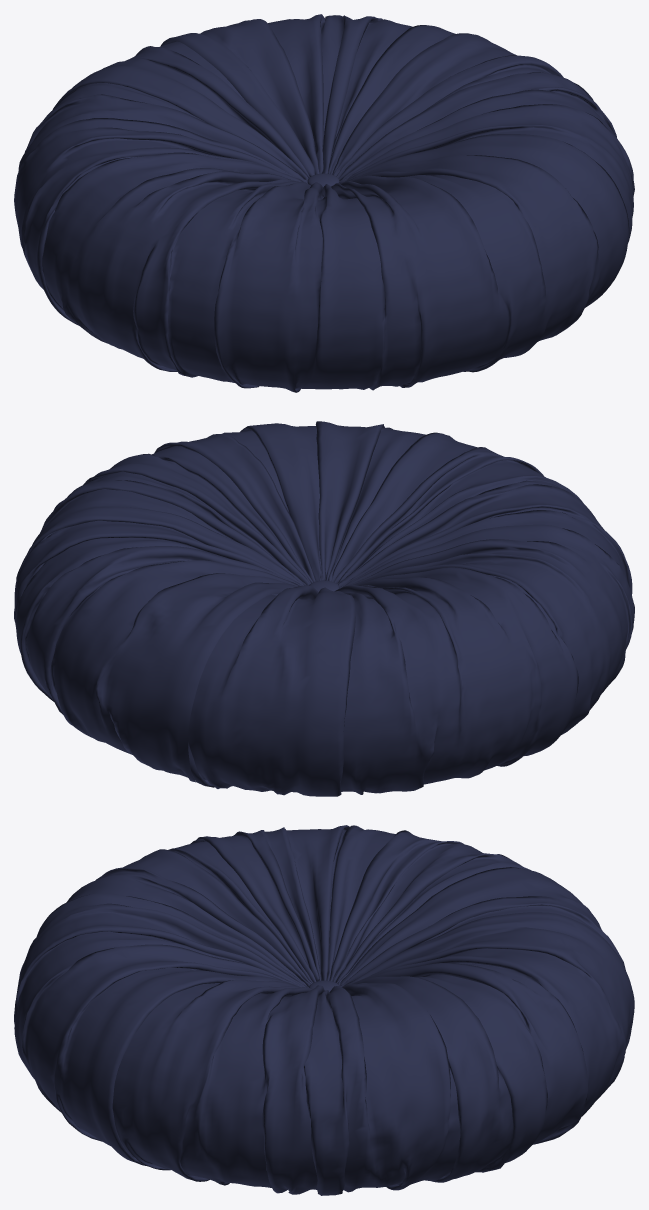
File: wf_specular_silk_pouf.glb
3 views of the same model, one above another, from view 1: azimuth 30°, elevation 25°; view 2: azimuth 150°, elevation 25°; view 3: azimuth 270°, elevation 25° (orthographic).
Visible parts, largest first — view 1: SpecularSilkPouf; view 2: SpecularSilkPouf; view 3: SpecularSilkPouf.
Part boxes in pixels (box(x1,y1,x2,y2)): SpecularSilkPouf: box(14, 14, 634, 392); SpecularSilkPouf: box(14, 421, 634, 796); SpecularSilkPouf: box(14, 825, 634, 1195).
Size of the model in its own units: 0.6099 by 0.1978 by 0.61.
